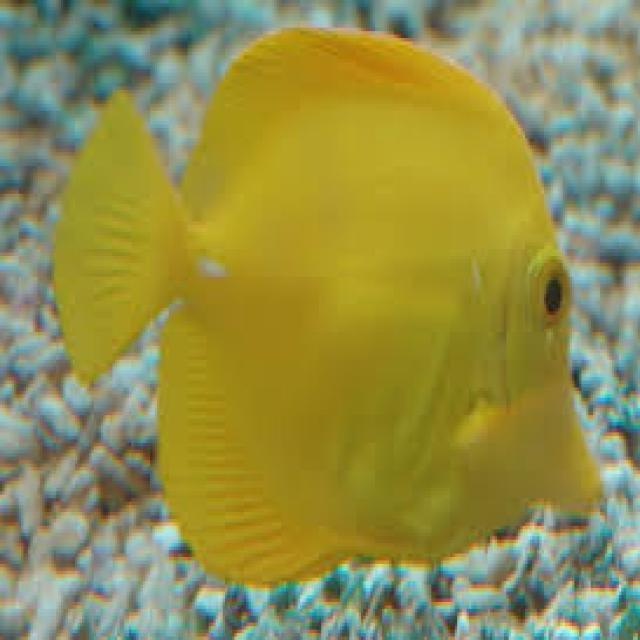TangFish: (50, 21, 605, 588)
